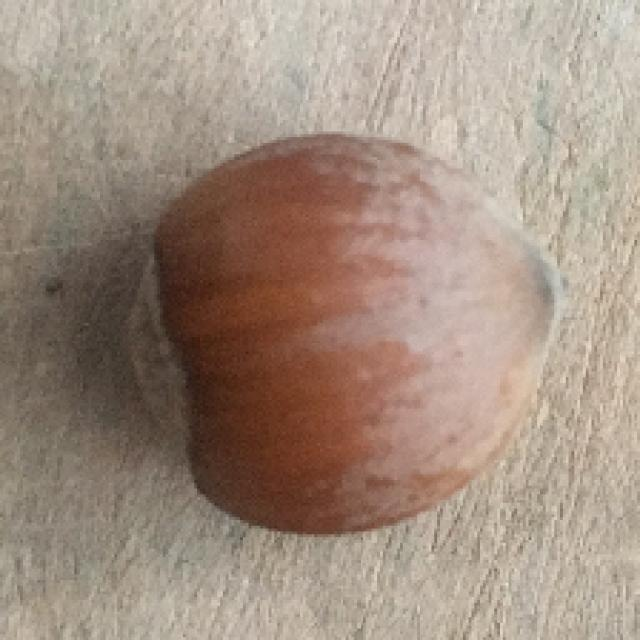qualityHazelnut: (110, 128, 558, 547)
